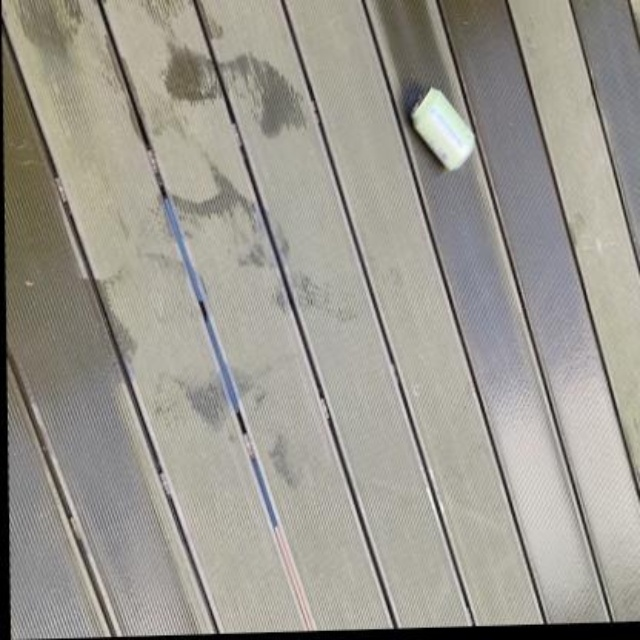trash: (411, 88, 474, 169)
